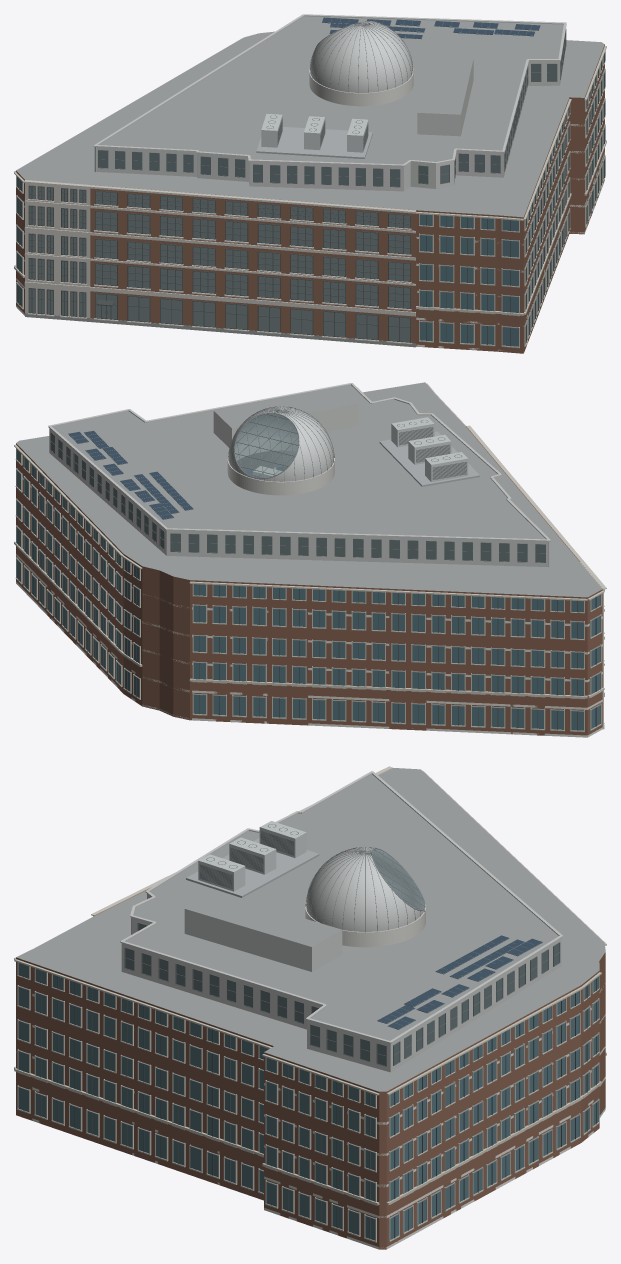
The model's file is lrb-exterior-7cab0ea8bb3e.glb.
The picture shows the model from 3 angles, top to bottom: view 1: azimuth 30°, elevation 25°; view 2: azimuth 150°, elevation 25°; view 3: azimuth 270°, elevation 25°; orthographic projection. The views are drawn at different scales.
Visible parts, largest first — view 1: LRB.001; view 2: LRB.001; view 3: LRB.001.
Boxes of the visible parts, box(x1,y1,x2,y2) form: LRB.001: box(14, 14, 606, 353); LRB.001: box(14, 382, 606, 737); LRB.001: box(14, 766, 606, 1249).
Bounding box in the file's own units: 89.68 × 32.87 × 68.9.
